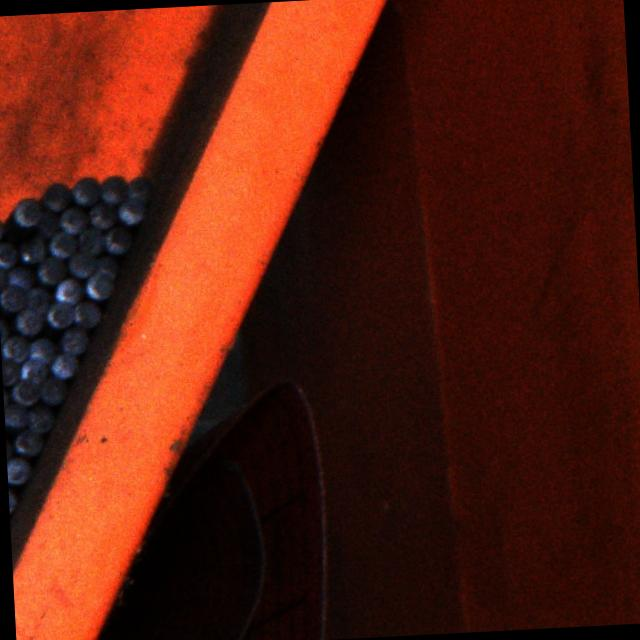tool: (53, 277, 85, 306), (36, 255, 66, 284), (85, 270, 114, 300), (42, 180, 70, 210), (72, 175, 100, 205), (14, 307, 44, 335), (38, 376, 68, 404), (28, 337, 58, 365), (100, 174, 128, 203), (19, 234, 47, 263), (59, 326, 88, 354), (1, 335, 30, 363), (58, 207, 88, 234), (14, 197, 42, 225), (26, 405, 54, 433), (72, 300, 101, 327), (48, 231, 78, 257), (126, 175, 154, 202), (45, 301, 73, 328), (0, 283, 27, 311), (50, 352, 78, 379), (66, 252, 95, 278), (20, 358, 49, 384), (14, 430, 43, 456), (88, 202, 116, 228), (104, 226, 130, 254), (11, 379, 39, 405), (78, 228, 104, 255), (118, 198, 144, 224), (7, 266, 35, 290), (26, 286, 51, 312), (7, 456, 30, 484), (35, 212, 59, 238), (4, 403, 28, 428), (94, 256, 120, 278), (2, 356, 21, 386), (0, 241, 17, 269), (0, 265, 8, 290)
